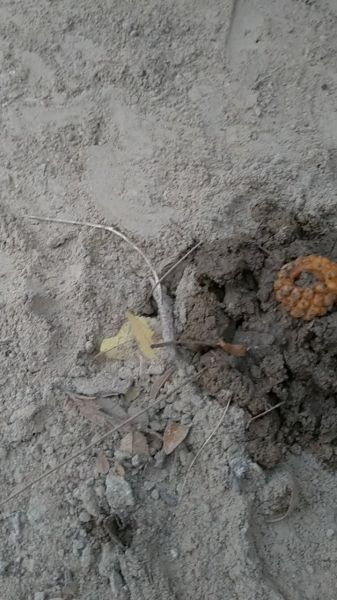eggs: (274, 252, 337, 323)
